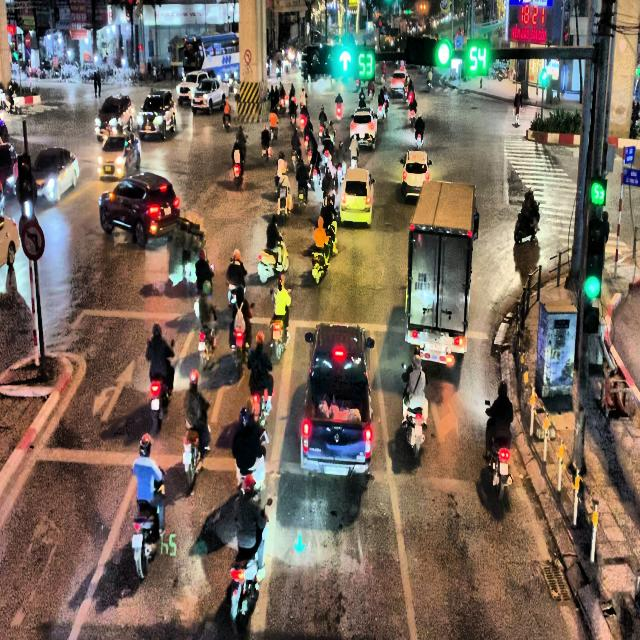lisence_plate: (414, 270, 431, 296), (324, 464, 348, 476), (425, 341, 446, 354), (351, 198, 359, 210), (163, 206, 172, 216), (360, 135, 366, 139)
